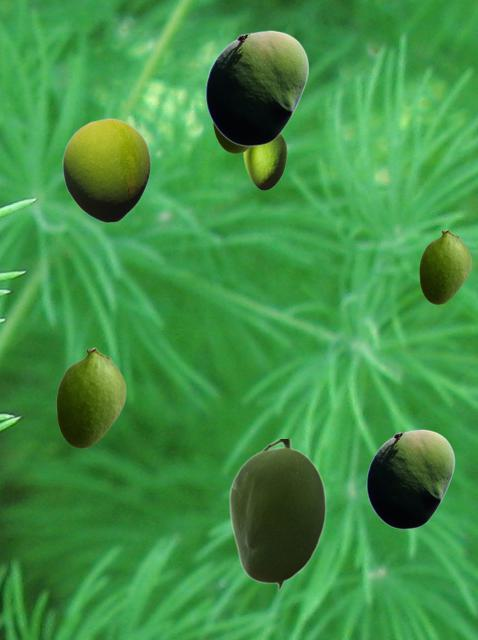green_mango: (228, 439, 325, 590), (205, 30, 308, 145), (62, 118, 150, 222), (366, 429, 454, 528), (56, 347, 125, 447), (419, 229, 470, 303), (243, 134, 286, 189), (212, 123, 252, 152)
